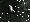person: (9, 5, 15, 15), (22, 4, 27, 14)
